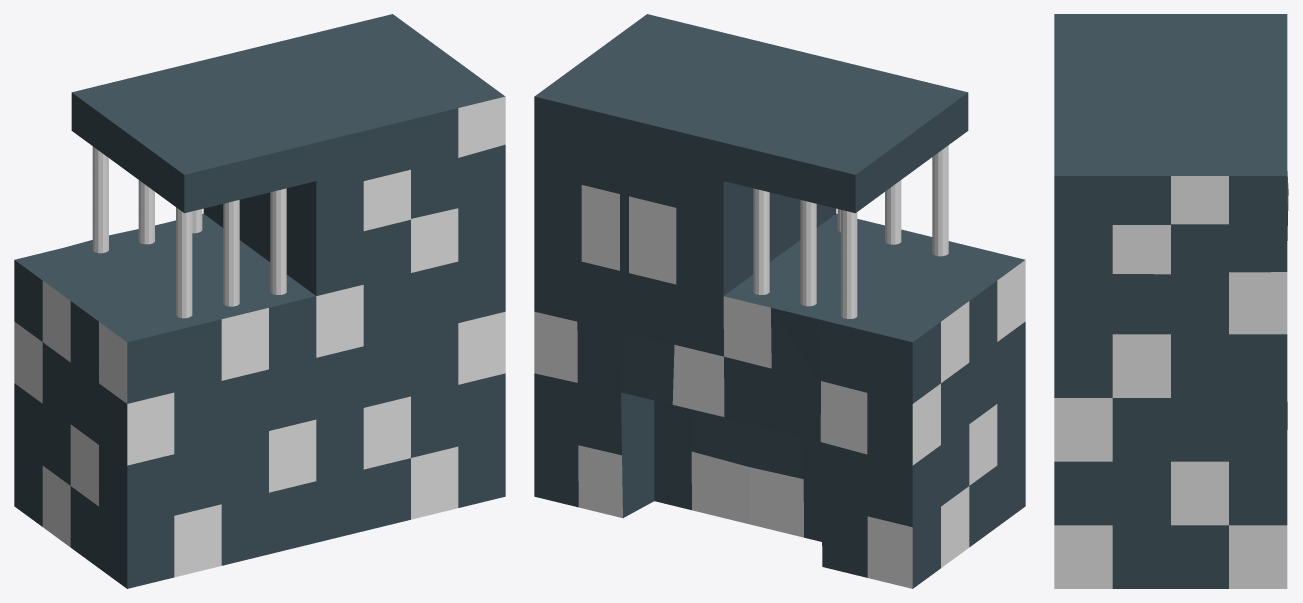
3 renders of one model, left to right at view 1: azimuth 30°, elevation 25°; view 2: azimuth 150°, elevation 25°; view 3: azimuth 270°, elevation 25°, orthographic. The views are drawn at different scales.
Visible parts, largest first — view 1: mesh_1640094276, mesh_819036519, mesh_145732548, mesh_808295673, mesh_132963076, mesh_700896198; view 2: mesh_1640094276, mesh_132963076, mesh_819036519, mesh_1920957620, mesh_700896198, mesh_145732548; view 3: mesh_1640094276.
Boxes of the visible parts, x1,y1,x2,y2 form: mesh_1640094276: [14, 14, 505, 588]; mesh_819036519: [176, 207, 192, 318]; mesh_145732548: [223, 200, 239, 306]; mesh_808295673: [270, 188, 286, 294]; mesh_132963076: [92, 146, 108, 253]; mesh_700896198: [138, 180, 154, 244]; mesh_1640094276: [534, 14, 1025, 588]; mesh_132963076: [841, 210, 857, 318]; mesh_819036519: [932, 145, 948, 256]; mesh_1920957620: [753, 188, 769, 294]; mesh_700896198: [800, 200, 816, 306]; mesh_145732548: [885, 180, 901, 244]; mesh_1640094276: [1054, 14, 1288, 588].
Bounding box in the file's own units: 51.6 × 52.14 × 26.79.
